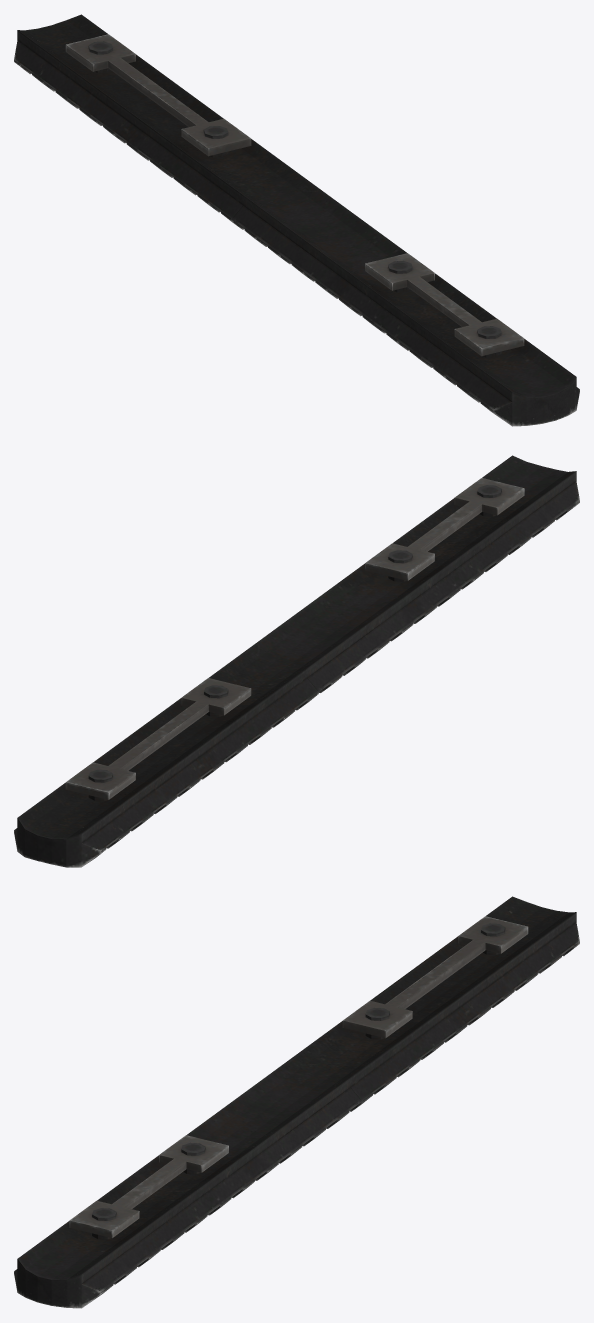
3 renders of one model, top to bottom at view 1: azimuth 30°, elevation 25°; view 2: azimuth 150°, elevation 25°; view 3: azimuth 330°, elevation 25°, orthographic.
Parts seen in each view (by area): view 1: TW_6388c5d19c00405f4717c0f0_PZ_Import; view 2: TW_6388c5d19c00405f4717c0f0_PZ_Import; view 3: TW_6388c5d19c00405f4717c0f0_PZ_Import.
Boxes of the visible parts, x1,y1,x2,y2 form: TW_6388c5d19c00405f4717c0f0_PZ_Import: (14, 14, 579, 426); TW_6388c5d19c00405f4717c0f0_PZ_Import: (14, 455, 579, 867); TW_6388c5d19c00405f4717c0f0_PZ_Import: (14, 896, 579, 1308).
Bounding box in the file's own units: 0.0123 × 0.1237 × 0.0064.
1 material, 1 textured.
